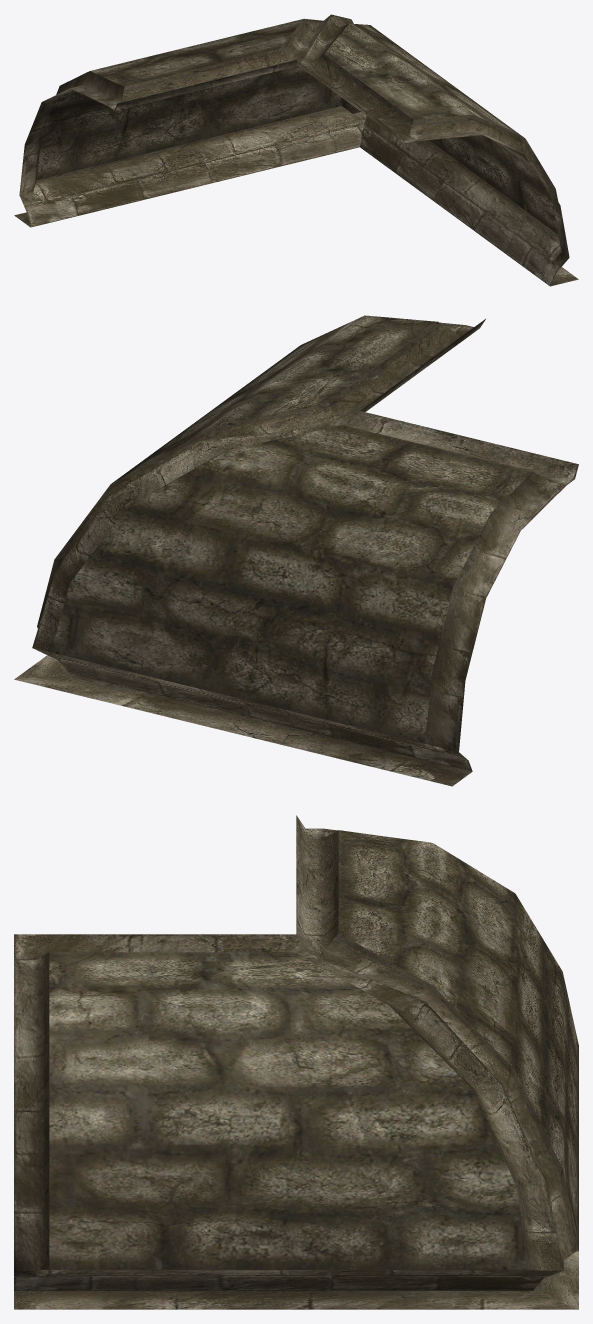
File: corner_concave_worn_amfp.dae
The picture shows the model from 3 angles, top to bottom: view 1: azimuth 30°, elevation 25°; view 2: azimuth 150°, elevation 25°; view 3: azimuth 270°, elevation 25°; orthographic projection. The views are drawn at different scales.
Parts seen in each view (by area): view 1: polySurface1; view 2: polySurface1; view 3: polySurface1.
Boxes of the visible parts, box(x1,y1,x2,y2) form: polySurface1: box(14, 14, 578, 286); polySurface1: box(14, 315, 578, 786); polySurface1: box(14, 815, 578, 1309).
Size of the model in its own units: 4 by 2 by 4.
